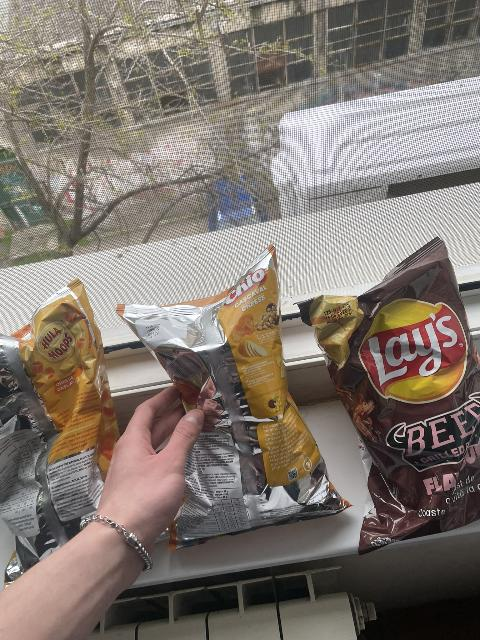Chio Cascaval 125g: (115, 242, 349, 542)
Chio Hula Hoops Cheese 70g: (0, 278, 125, 586)
Lays Beef Grilled Ribs 125g: (292, 237, 478, 549)
